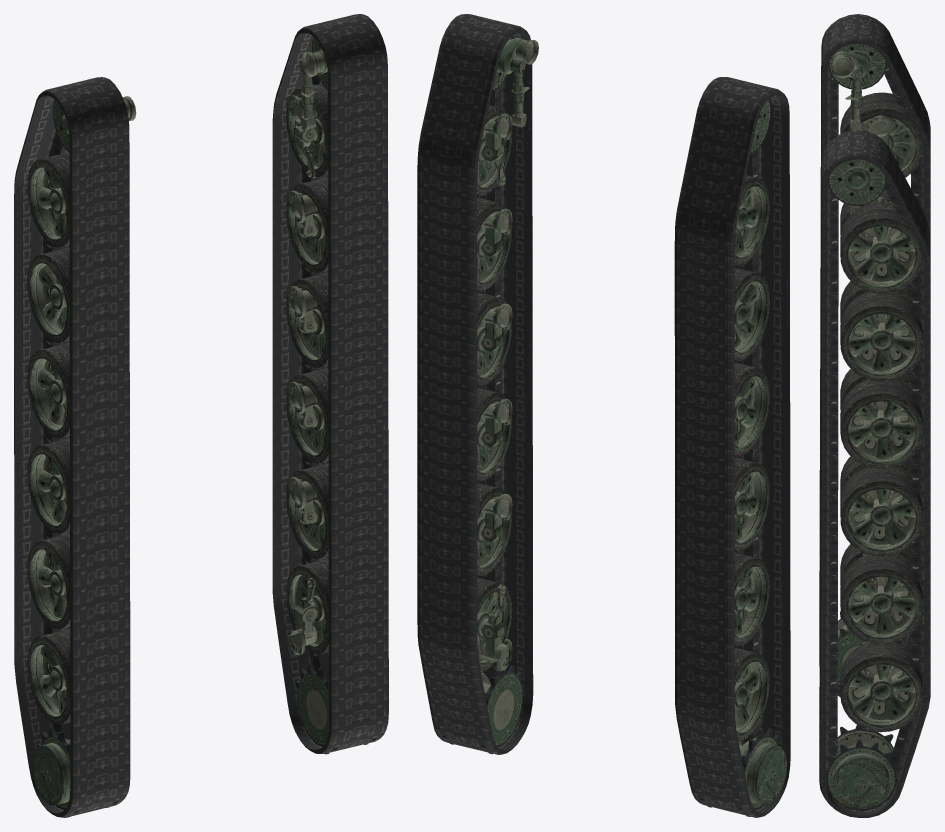
The model's file is Chassis.glb.
3 renders of one model, left to right at view 1: azimuth 30°, elevation 25°; view 2: azimuth 150°, elevation 25°; view 3: azimuth 270°, elevation 25°, orthographic. The views are drawn at different scales.
Parts seen in each view (by area): view 1: set_1_group_0, set_0_group_0, set_2_group_0, set_3_group_0; view 2: set_0_group_0, set_1_group_0, set_3_group_0, set_2_group_0; view 3: set_3_group_0, set_1_group_0, set_2_group_0, set_0_group_0.
Part boxes in pixels (x1,y1,x2,y2): set_1_group_0: (272, 14, 388, 753); set_0_group_0: (14, 77, 130, 817); set_2_group_0: (27, 96, 136, 817); set_3_group_0: (286, 37, 380, 754); set_0_group_0: (674, 77, 790, 817); set_1_group_0: (417, 14, 533, 754); set_3_group_0: (442, 37, 538, 754); set_2_group_0: (700, 99, 786, 816); set_3_group_0: (826, 159, 923, 811); set_1_group_0: (819, 130, 930, 817); set_2_group_0: (828, 43, 923, 687); set_0_group_0: (819, 14, 930, 697).
Bounding box in the file's own units: 3.35 × 7.14 × 1.08.
4 materials, 4 textured.
